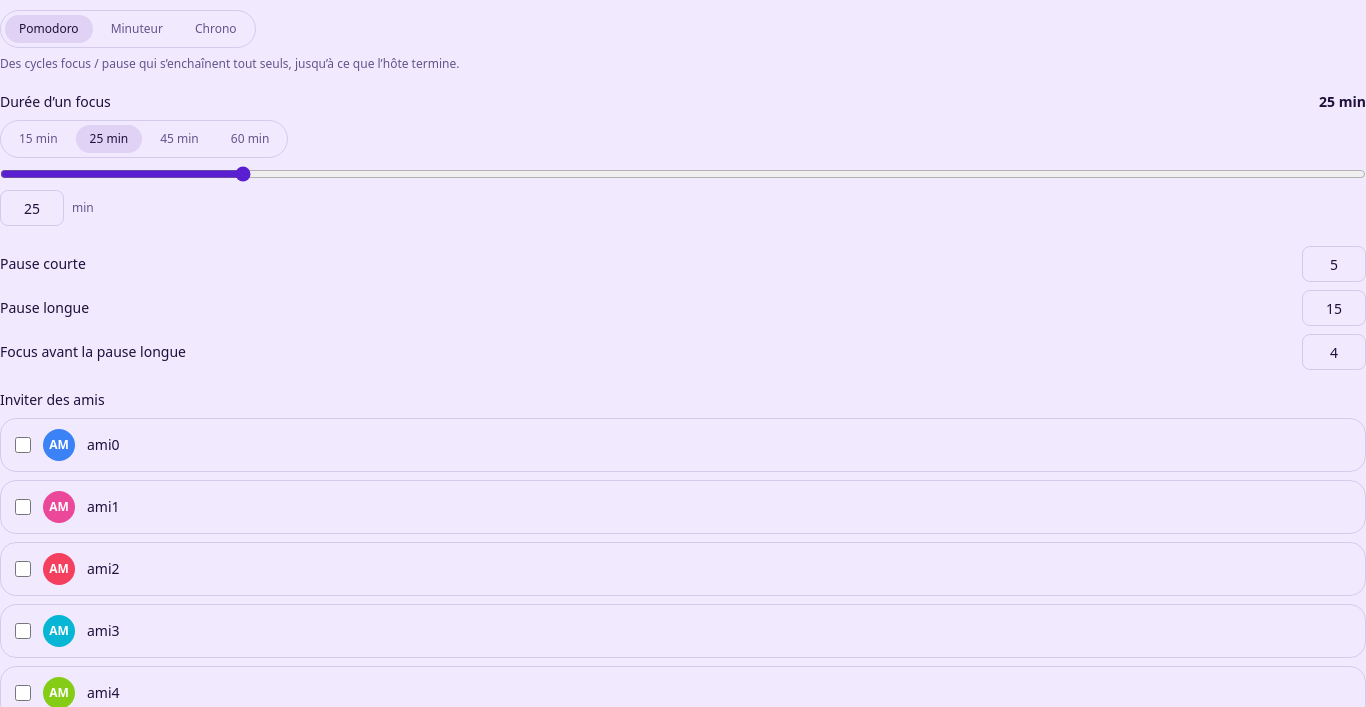
Scenario: CreateRoomForm — LOT F3 › plafonne les invitations à 5 amis
The image size is (1366, 707).
Click the text "ami0". click: [103, 444]
box: [87,435,120,454]
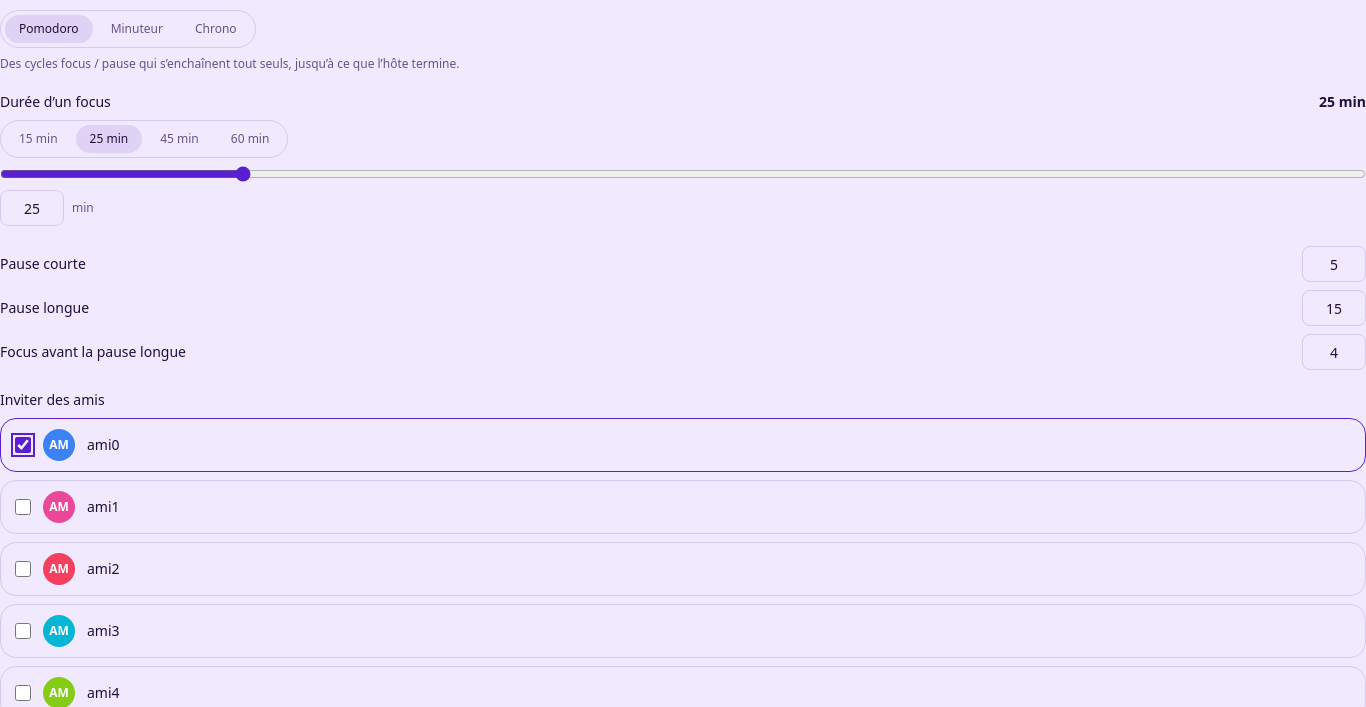
Click the text "ami1". click: [103, 506]
box: [87,497,120,516]
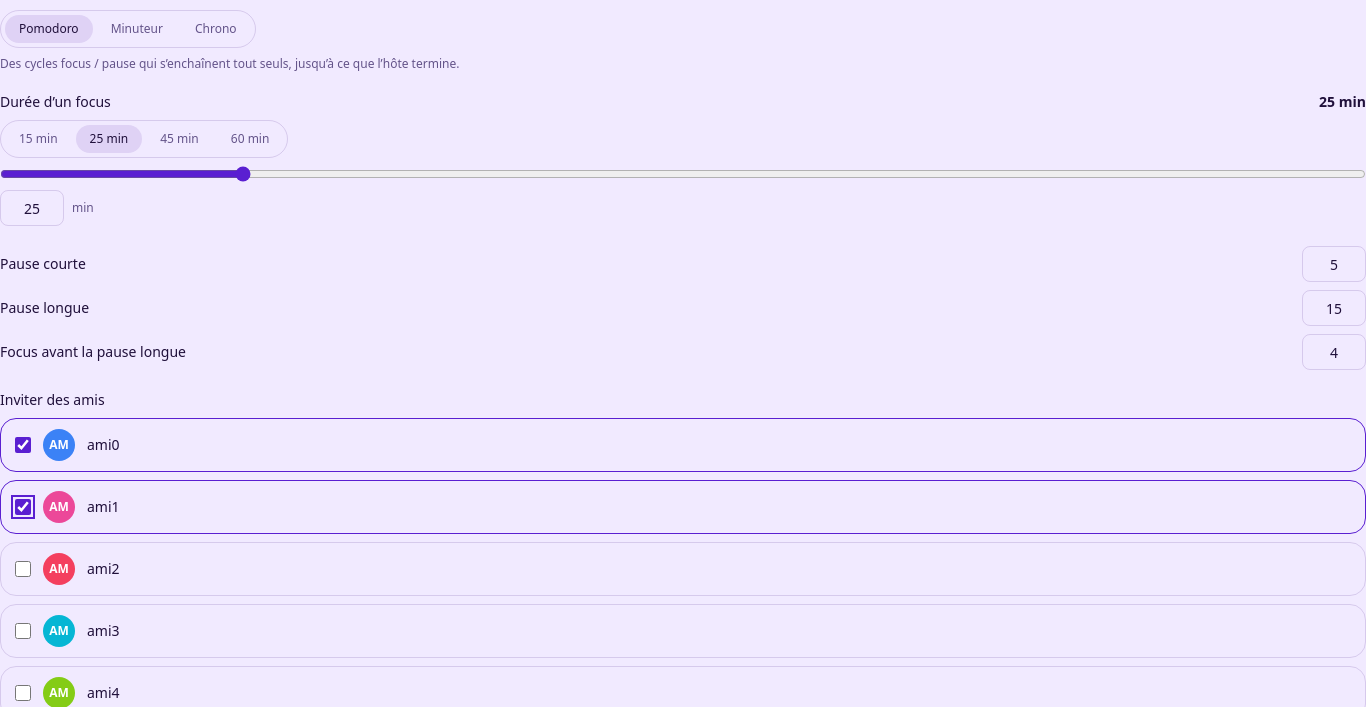
Click the text "ami2". click: [103, 568]
box: [87,559,120,578]
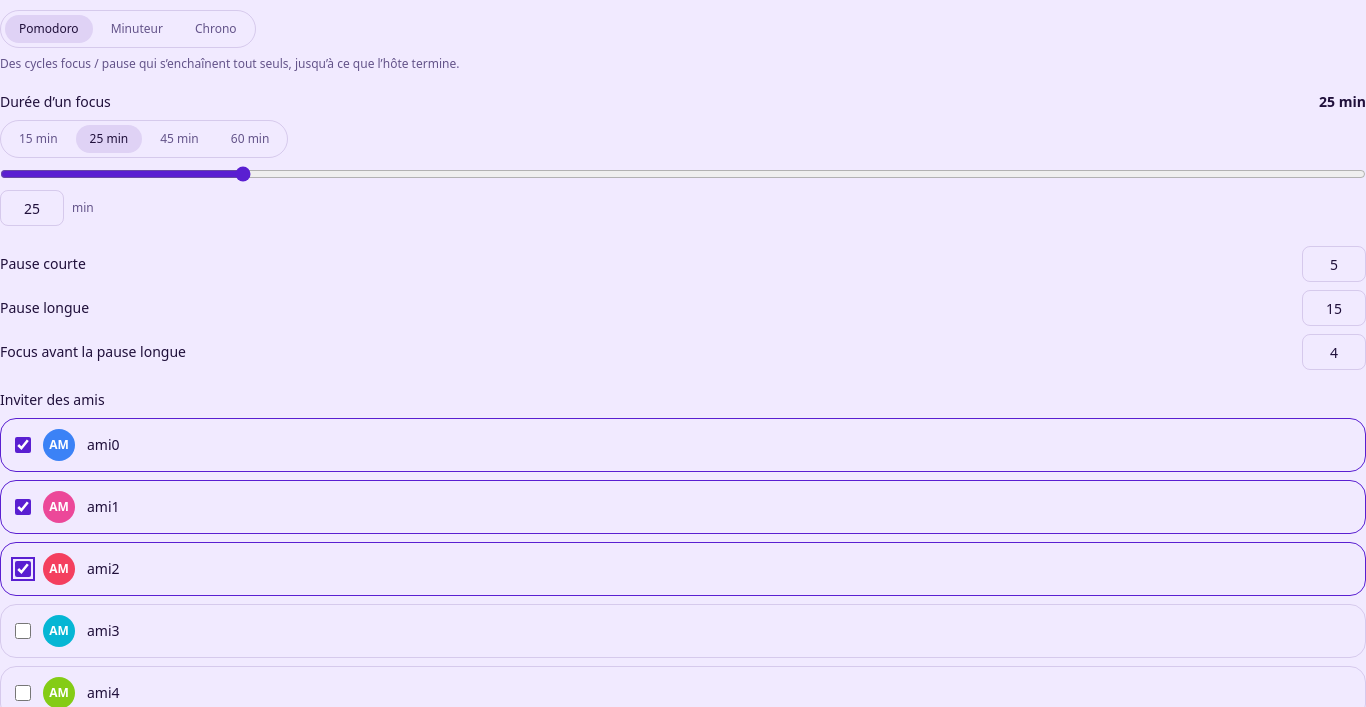
Click the text "ami3". click: [103, 630]
box: [87,621,120,640]
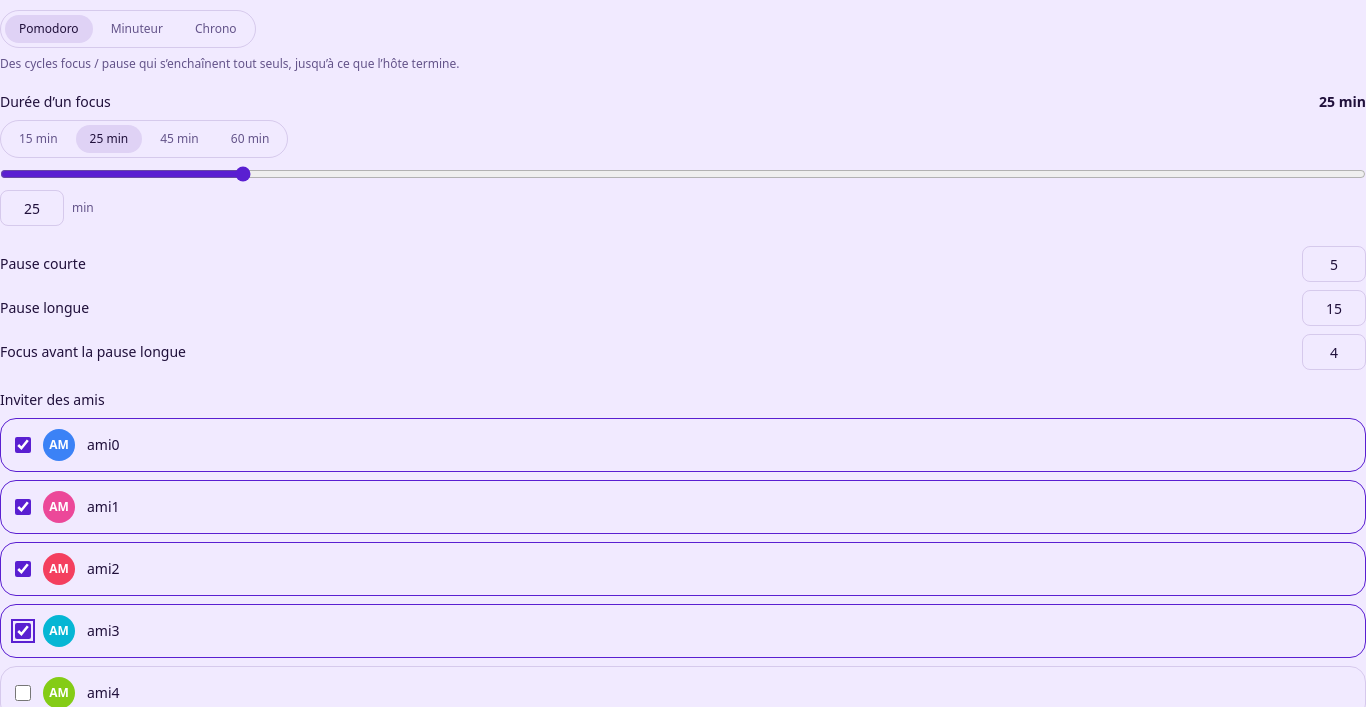
Click the text "ami4". click: [103, 692]
box: [87,683,120,702]
(page scrolled)
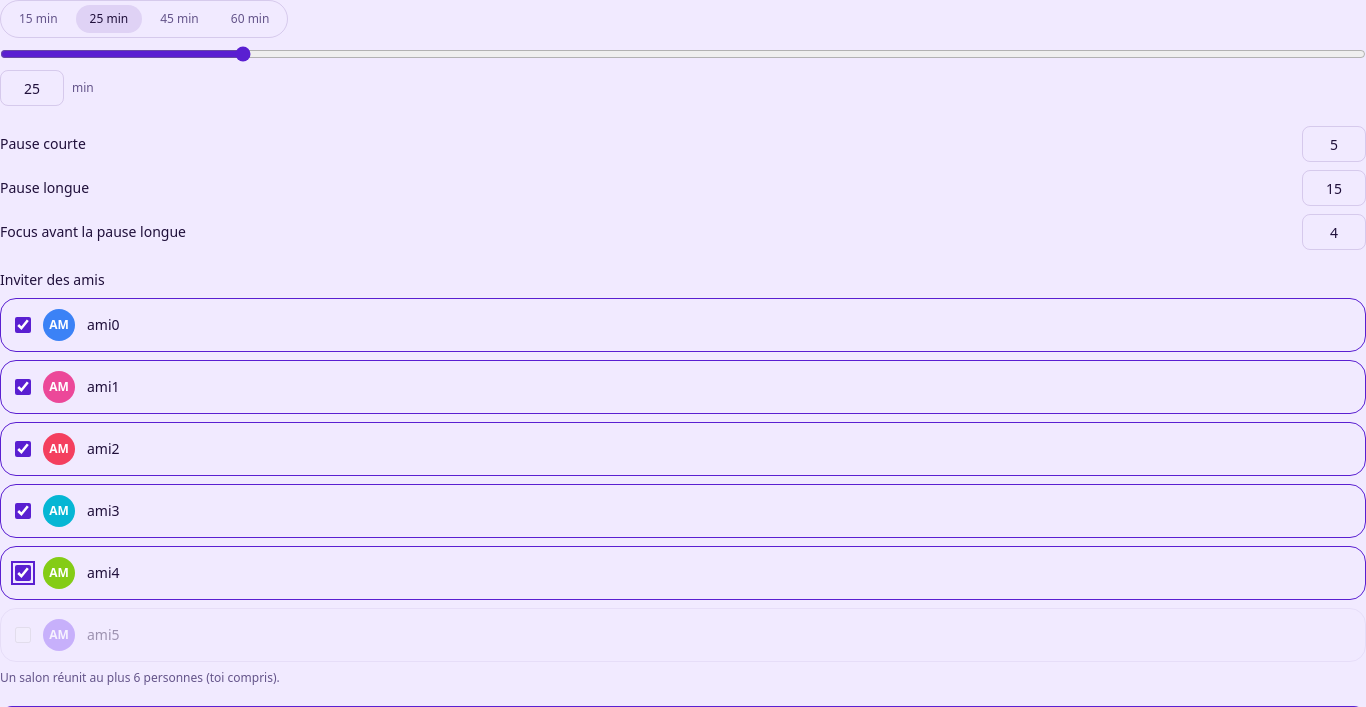
Expected: the text "Un salon réunit au plus 6 personnes (toi compris)." is shown, [0,669,280,686]
